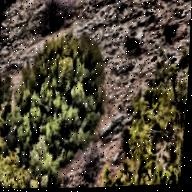boar: (154, 16, 179, 46), (120, 27, 142, 56)
